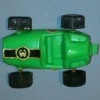verde_oeste: (2, 15, 99, 86)
